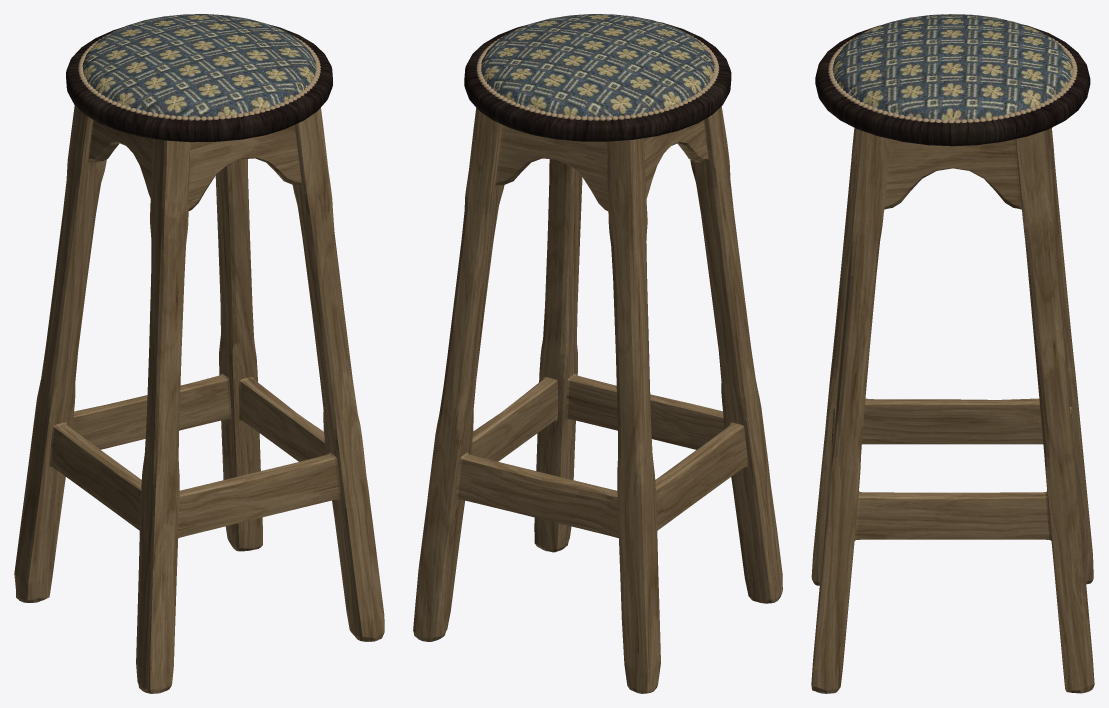
3 renders of one model, left to right at view 1: azimuth 30°, elevation 25°; view 2: azimuth 150°, elevation 25°; view 3: azimuth 270°, elevation 25°, orthographic. The views are drawn at different scales.
Parts seen in each view (by area): view 1: g (×3); view 2: g (×3); view 3: g (×3).
Boxes of the visible parts, x1=… form: g (×3): x1=14, y1=14, x2=384, y2=693; g (×3): x1=413, y1=14, x2=782, y2=693; g (×3): x1=811, y1=14, x2=1094, y2=693.
Size of the model in its own units: 0.8737 by 2 by 0.8741.
Materials: 5 (5 with a texture image).
